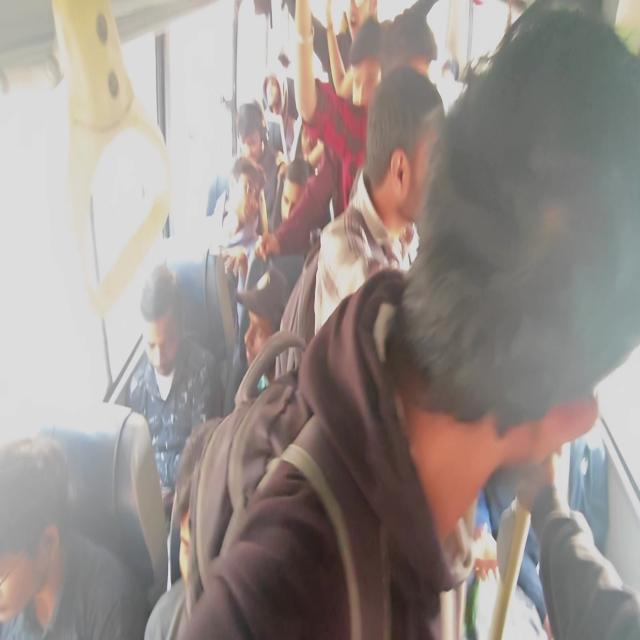person: (440, 86, 640, 521), (0, 428, 89, 640), (373, 93, 454, 231), (230, 296, 296, 433), (139, 278, 194, 377), (222, 155, 260, 249), (343, 38, 382, 124), (266, 165, 303, 248), (392, 11, 434, 76), (235, 107, 269, 162), (294, 111, 324, 166), (263, 68, 283, 119), (344, 0, 363, 34), (276, 50, 288, 66)
